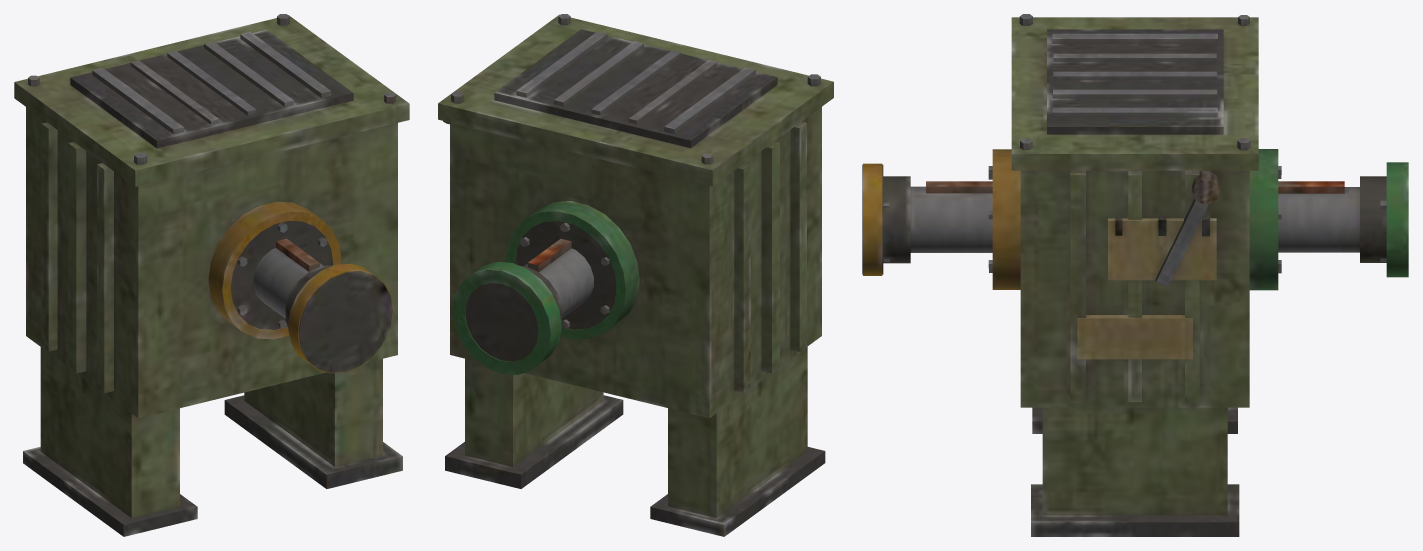
File: feSpeedBox.glb
3 renders of one model, left to right at view 1: azimuth 30°, elevation 25°; view 2: azimuth 150°, elevation 25°; view 3: azimuth 270°, elevation 25°, orthographic.
Visible parts, largest first — view 1: feSpeedBox_Base, FeSpinOut_SpeedBox; view 2: feSpeedBox_Base, FeSpinIn_SpeedBox; view 3: feSpeedBox_Base, FeSpinIn_SpeedBox, FeSpinOut_SpeedBox.
Part boxes in pixels (x1,y1,x2,y2): feSpeedBox_Base: [14, 14, 409, 536]; FeSpinOut_SpeedBox: [253, 238, 393, 373]; feSpeedBox_Base: [438, 14, 833, 536]; FeSpinIn_SpeedBox: [452, 238, 593, 374]; feSpeedBox_Base: [988, 14, 1281, 536]; FeSpinIn_SpeedBox: [1278, 162, 1408, 277]; FeSpinOut_SpeedBox: [862, 163, 992, 275].
Size of the model in its own units: 0.6324 by 0.7997 by 1.
Materials: 1 (1 with a texture image).
